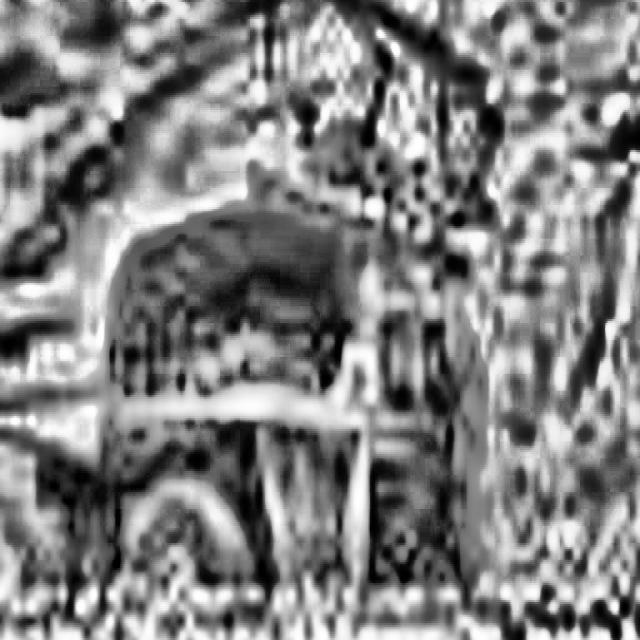dump_truck: (0, 40, 484, 596)
